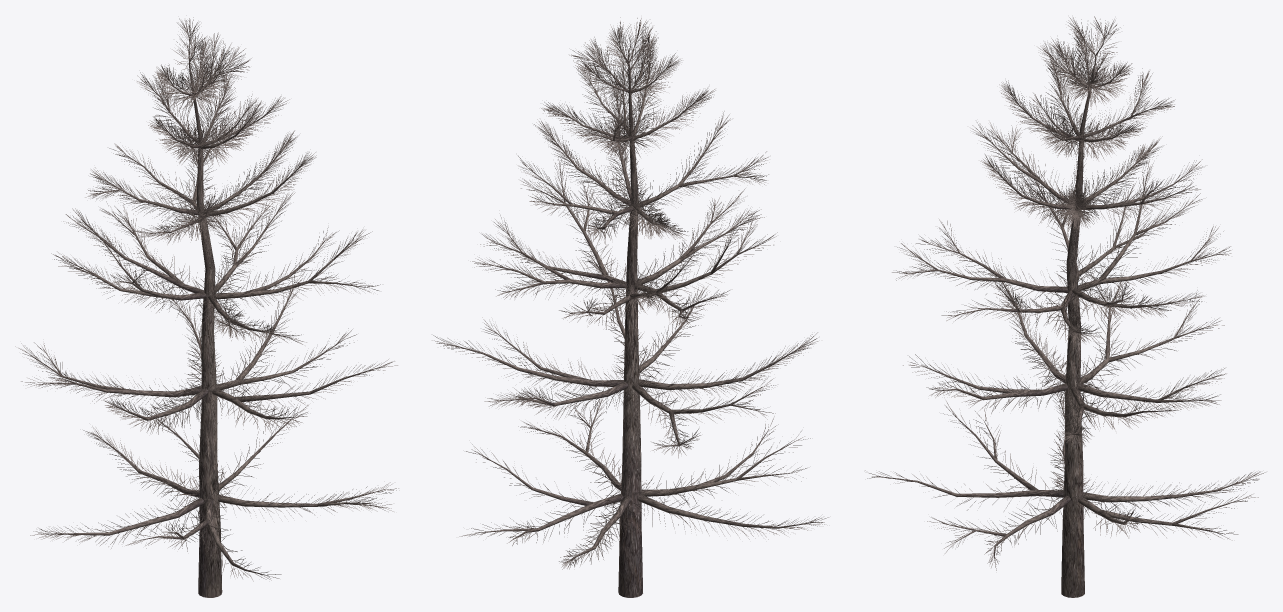
Rendered from tree.obj.
3 renders of one model, left to right at view 1: azimuth 30°, elevation 25°; view 2: azimuth 150°, elevation 25°; view 3: azimuth 270°, elevation 25°, orthographic. The views are drawn at different scales.
Visible parts, largest first — view 1: leaves_leaves.002, tree_tree.008; view 2: leaves_leaves.002, tree_tree.008; view 3: leaves_leaves.002, tree_tree.008.
Part boxes in pixels (left/top/right/bottom): leaves_leaves.002: left=15, top=17, right=398, bottom=581; tree_tree.008: left=29, top=32, right=385, bottom=597; leaves_leaves.002: left=432, top=17, right=828, bottom=569; tree_tree.008: left=448, top=33, right=815, bottom=597; leaves_leaves.002: left=865, top=16, right=1265, bottom=570; tree_tree.008: left=876, top=31, right=1250, bottom=597.
Size of the model in its own units: 3.2 by 5.12 by 3.29.
Materials: 1 (1 with a texture image).
